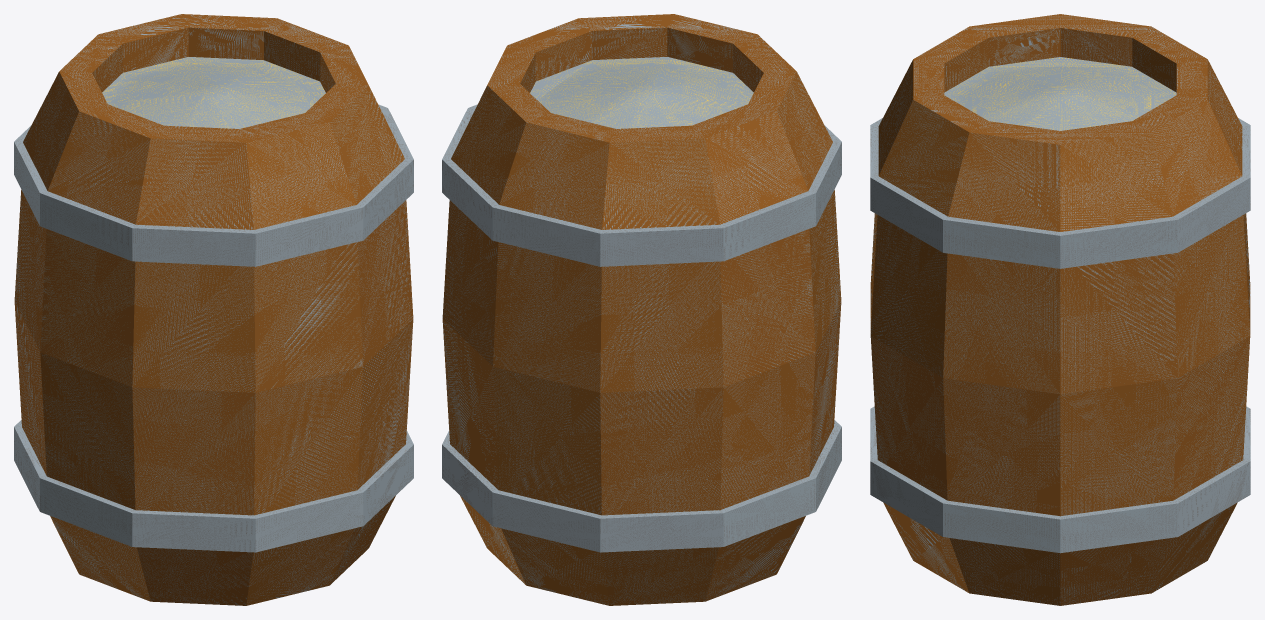
The model's file is Barrel_Grain_01.fbx.
3 views of the same model, side by side, from view 1: azimuth 30°, elevation 25°; view 2: azimuth 150°, elevation 25°; view 3: azimuth 270°, elevation 25° (orthographic).
Visible parts, largest first — view 1: Model; view 2: Model; view 3: Model.
Boxes of the visible parts, x1,y1,x2,y2 form: Model: [14, 14, 413, 605]; Model: [442, 14, 841, 605]; Model: [870, 14, 1250, 605].
Bounding box in the file's own units: 158 × 200 × 150.
